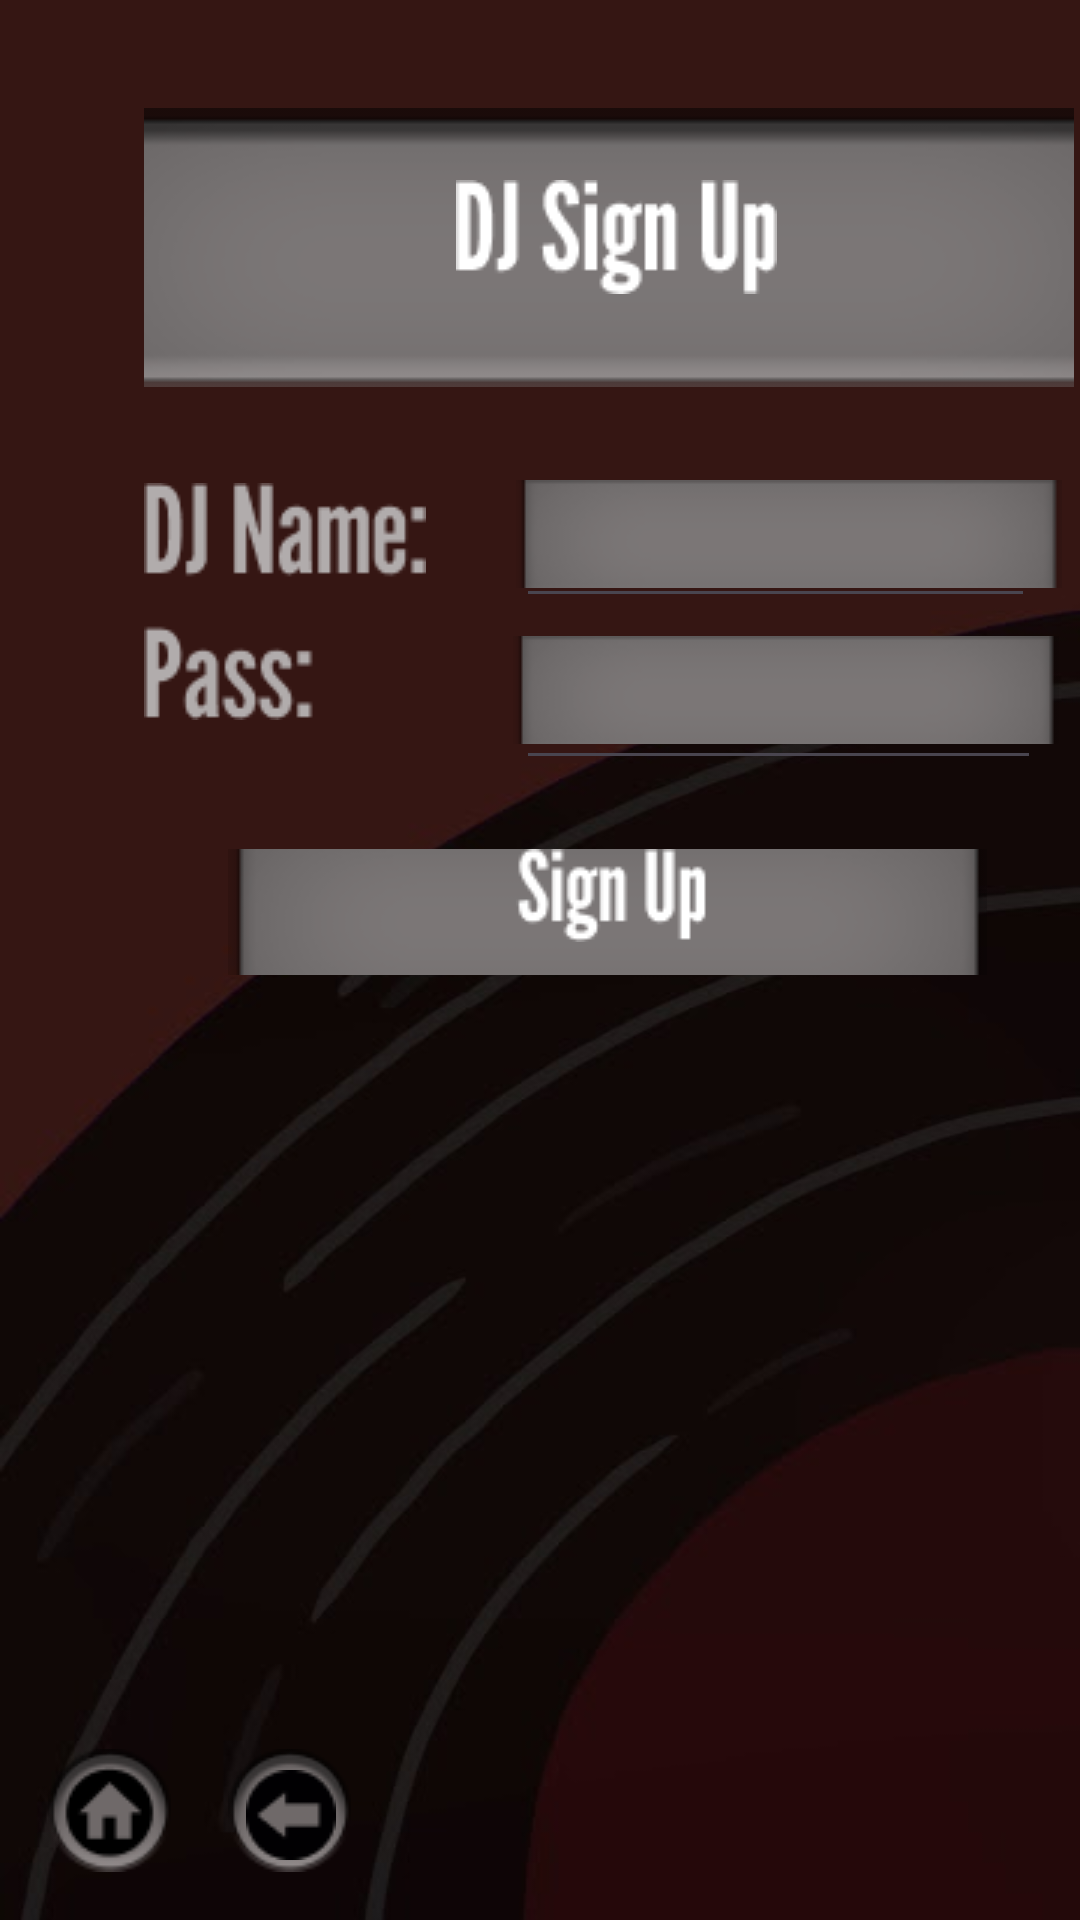

Named icons in this screenshot (1080*1920) and their centers, [x,y]:
back arrow: [291,1815]
home circle: [109,1813]
